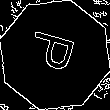P_E: (26, 30, 84, 80)
